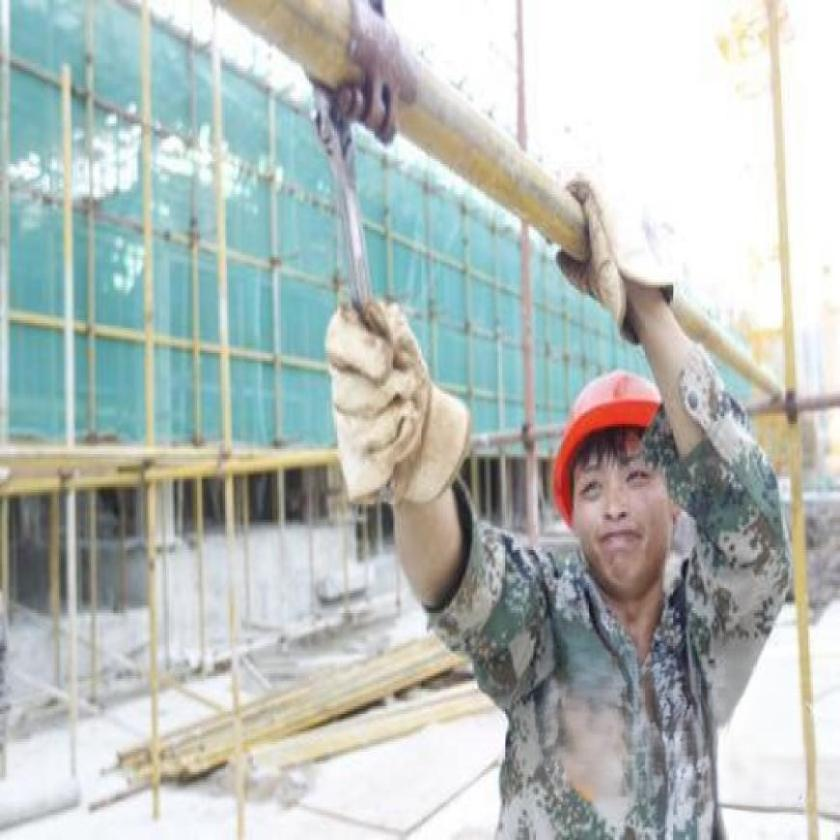Con_casco: (536, 357, 697, 624)
